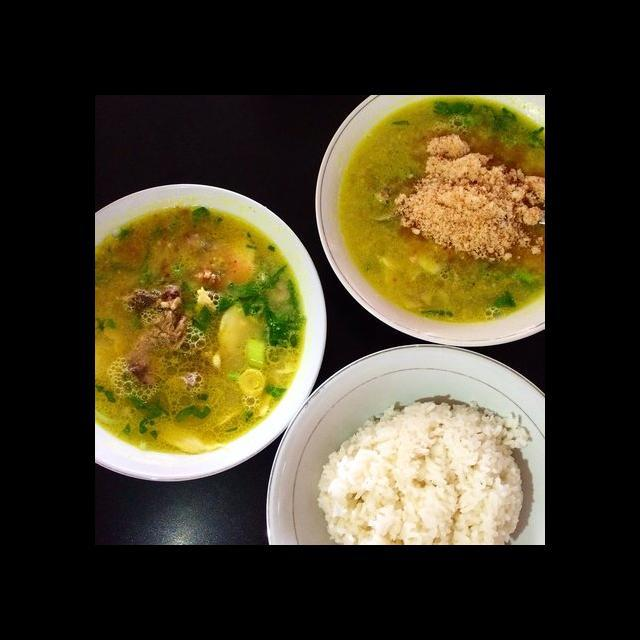Soto: (94, 202, 304, 454), (341, 92, 548, 311)
